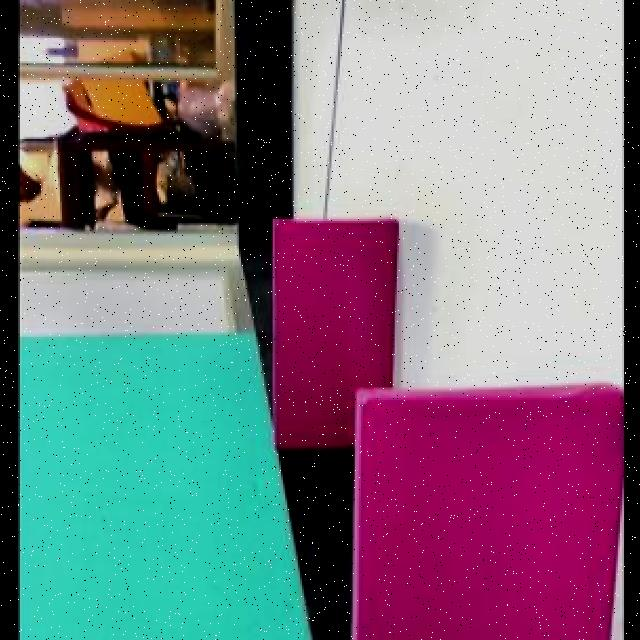xparking: (368, 397, 610, 637), (274, 222, 388, 390)
